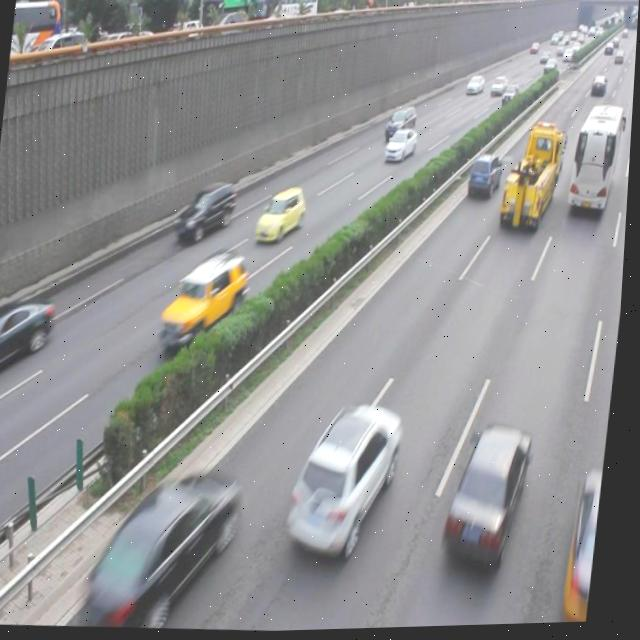bus: (499, 124, 567, 238)
car: (91, 463, 251, 635), (291, 402, 409, 559), (445, 420, 537, 572), (161, 247, 255, 356), (568, 467, 609, 626), (0, 293, 61, 389), (257, 186, 311, 247), (468, 154, 504, 203), (385, 129, 420, 166)
truck: (177, 180, 241, 244)
van: (568, 105, 626, 216)
